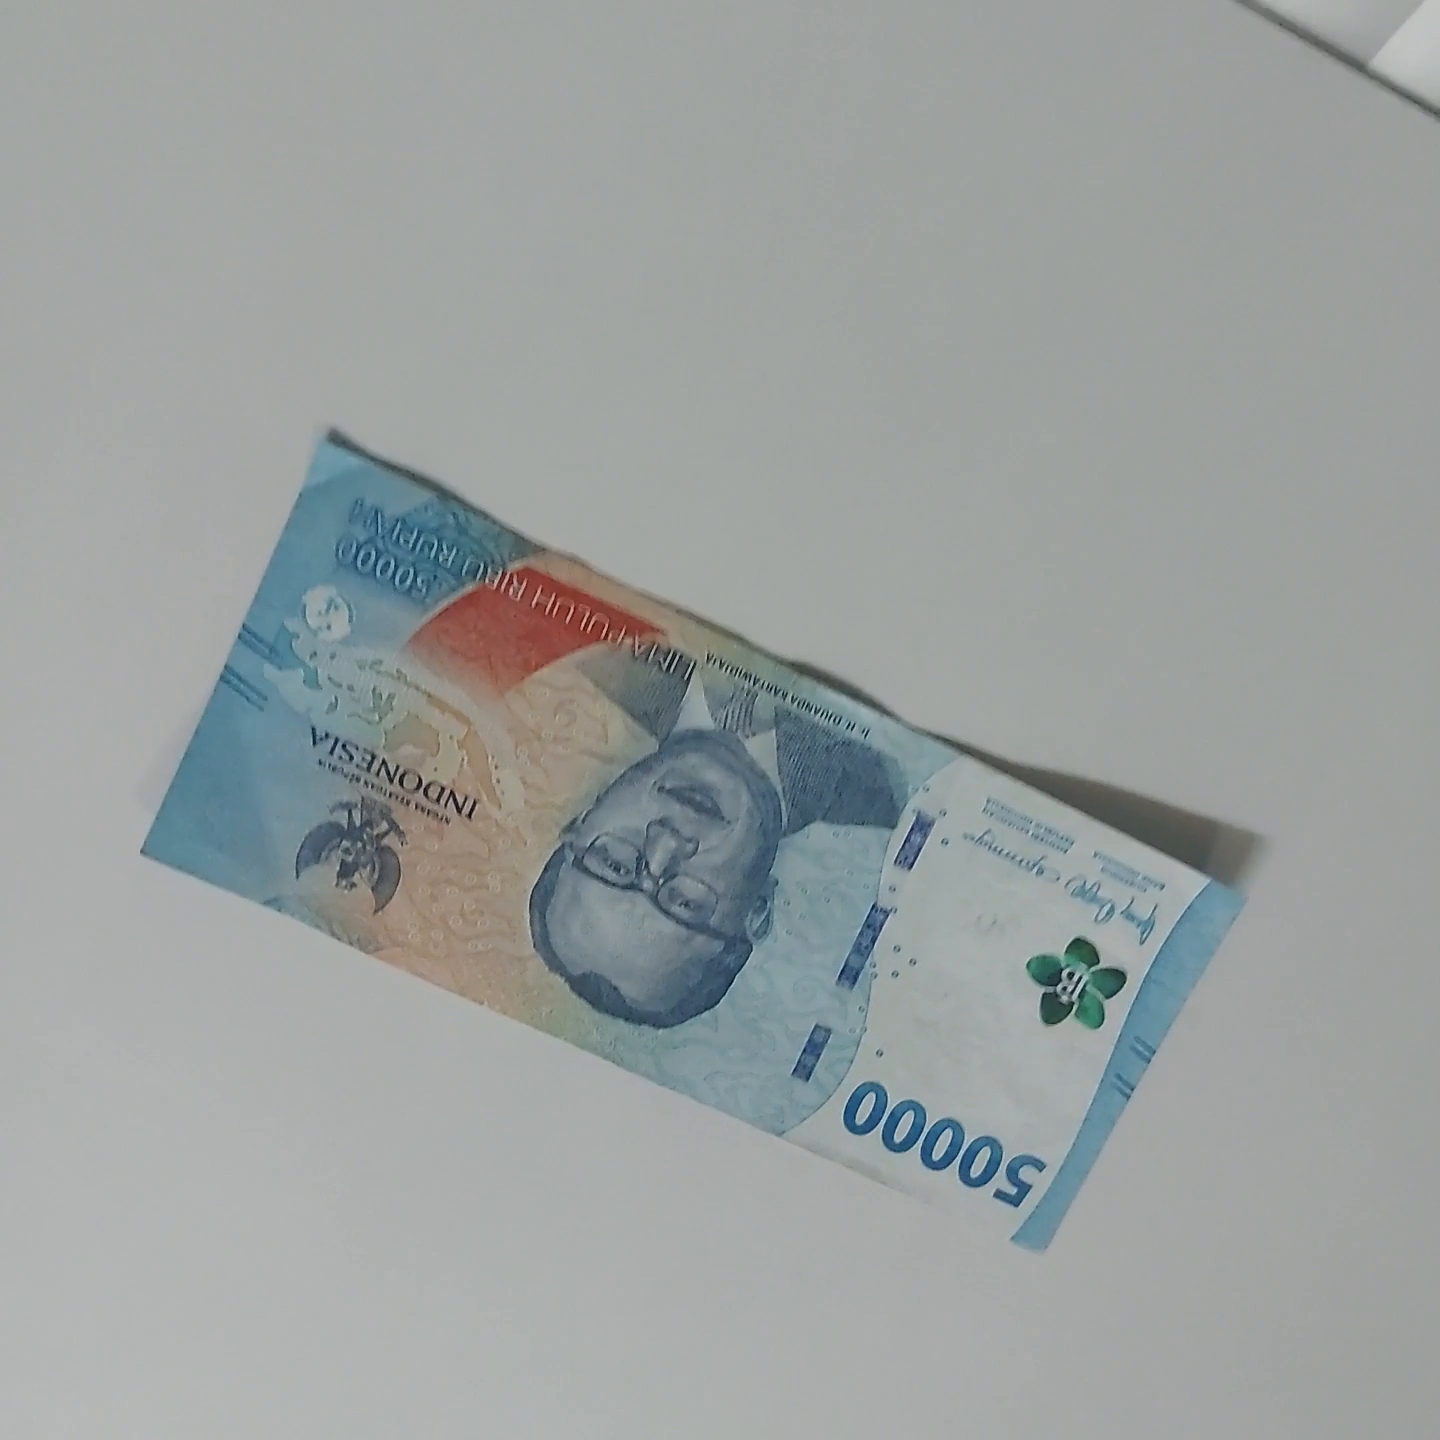50k: (284, 409, 1365, 885)
